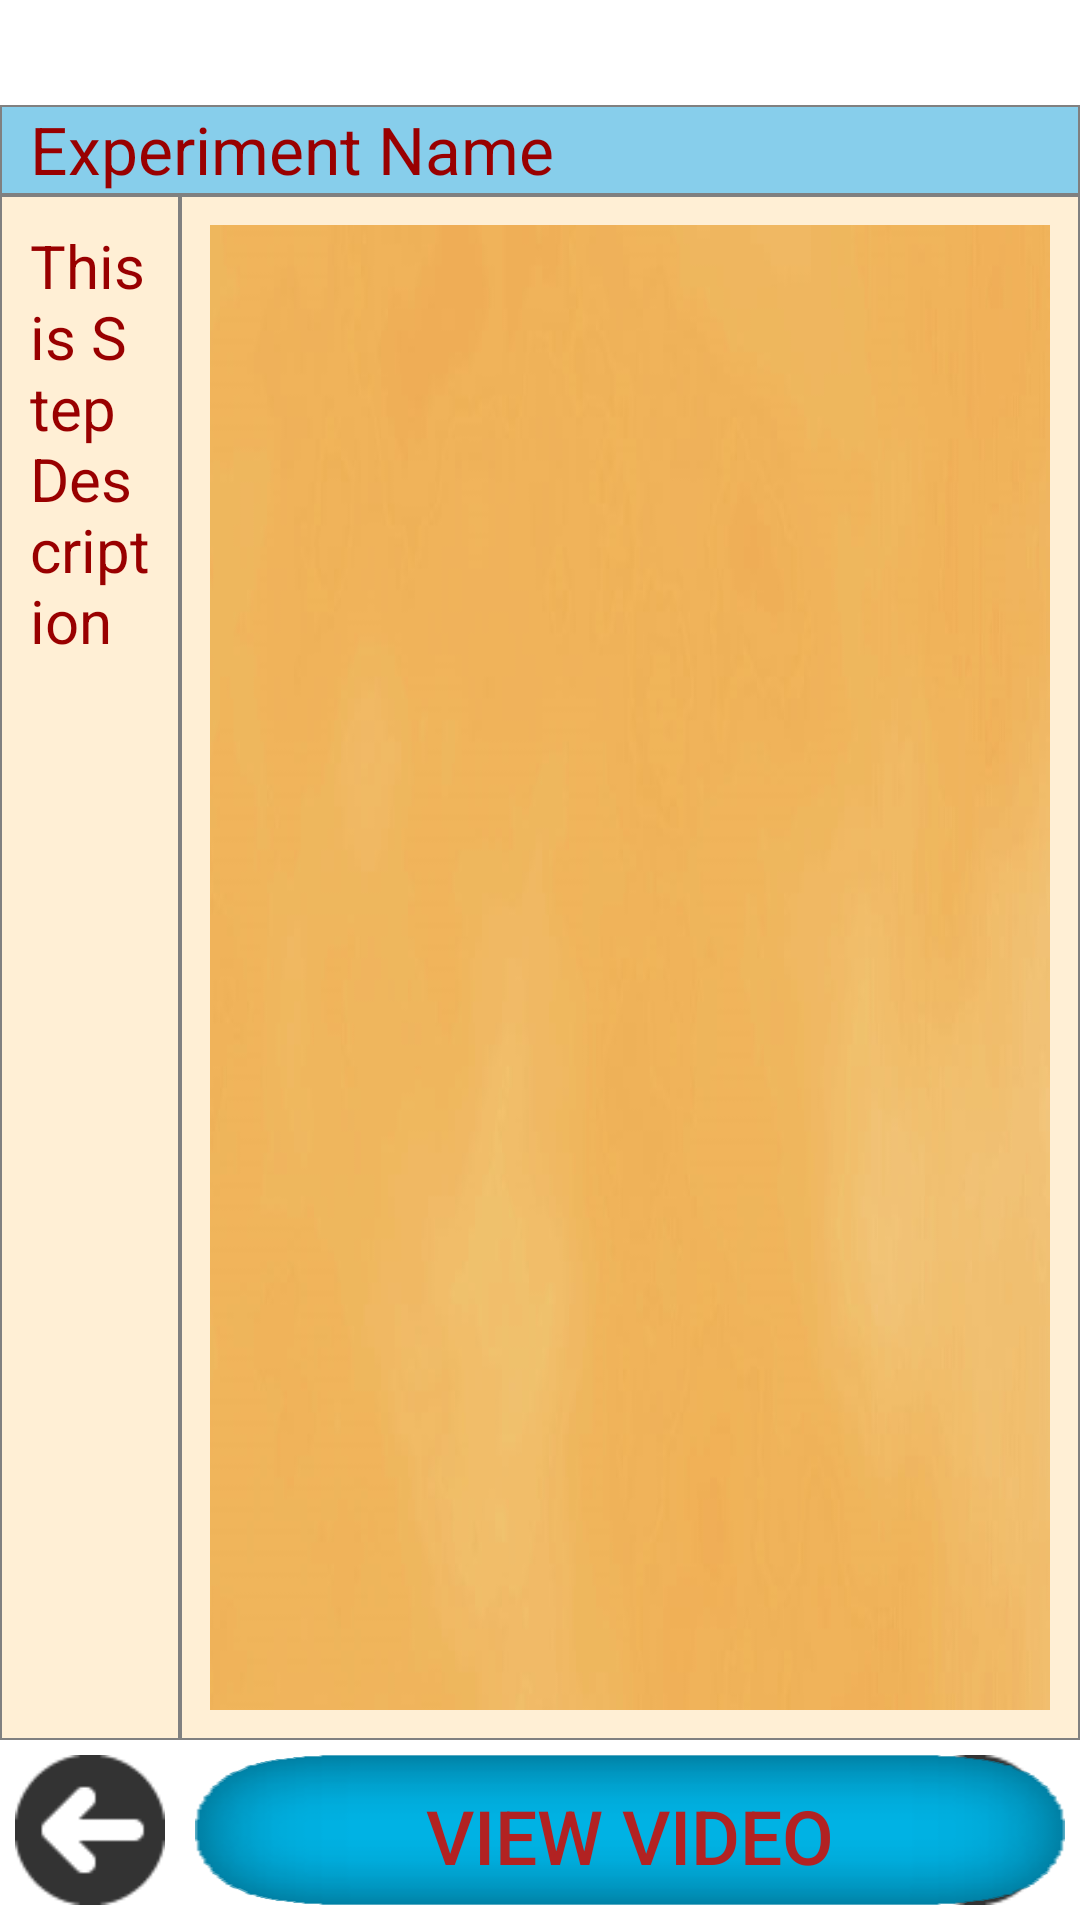

Where to tap for icons on this 1080px x 1920px app screen, as (x,y):
backward: (90,1830)
